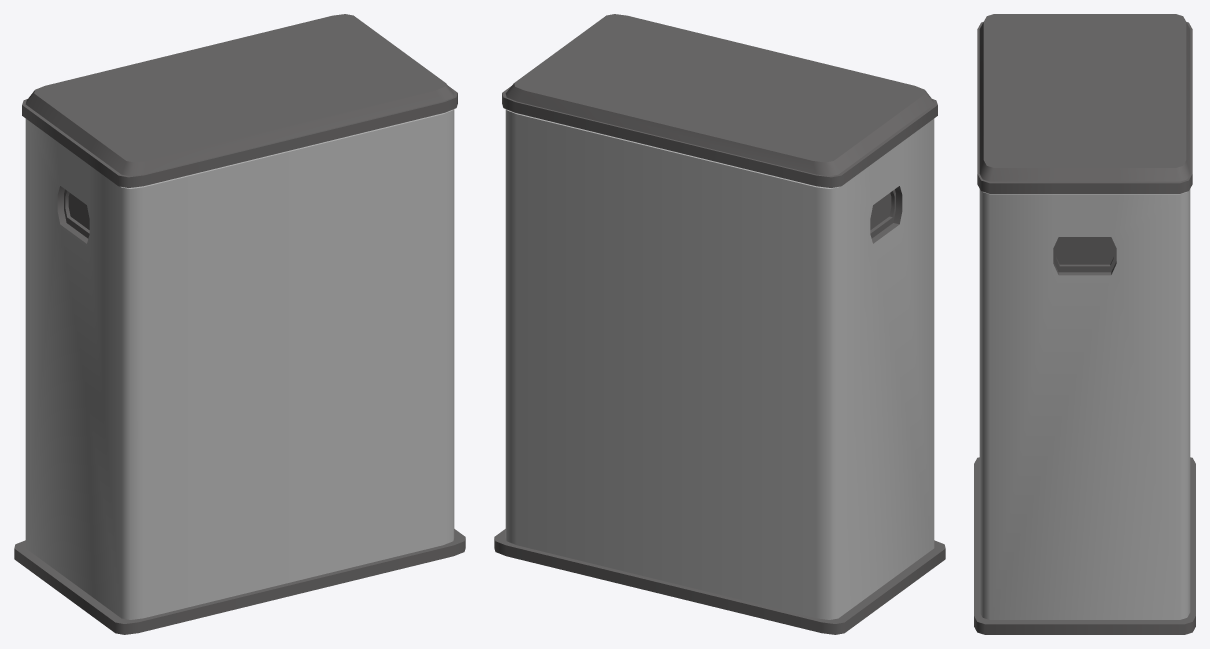
The model's file is TrashBin.fbx.
The picture shows the model from 3 angles, left to right: view 1: azimuth 30°, elevation 25°; view 2: azimuth 150°, elevation 25°; view 3: azimuth 270°, elevation 25°; orthographic projection.
Visible parts, largest first — view 1: TrashBin; view 2: TrashBin; view 3: TrashBin.
Boxes of the visible parts, <box> form: TrashBin: <box>14,14,465,634</box>; TrashBin: <box>494,14,945,634</box>; TrashBin: <box>974,14,1195,634</box>.
Size of the model in its own units: 38.52 by 48.88 by 21.4.
